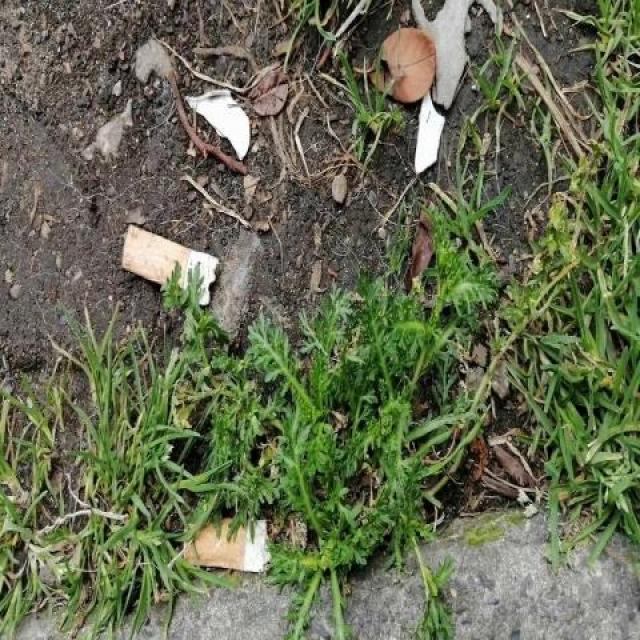non-organic waste: (116, 219, 227, 312), (179, 508, 274, 580)
